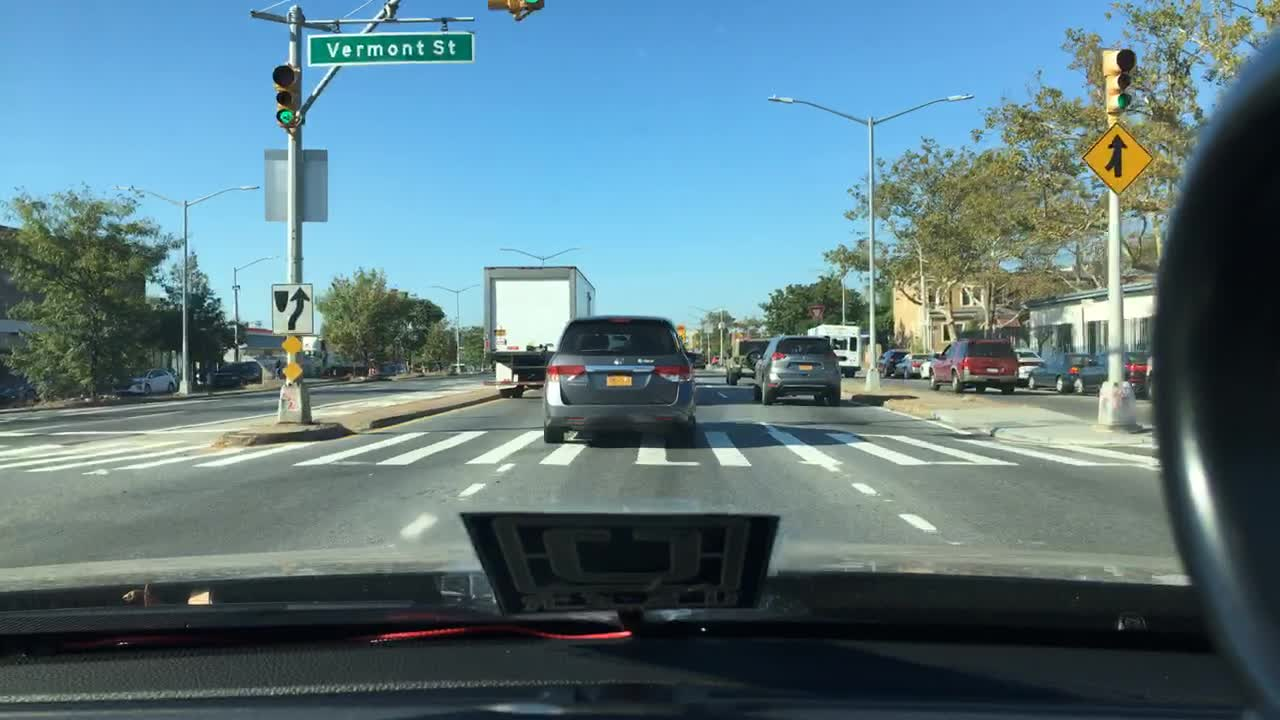car: (541, 317, 696, 446), (754, 334, 841, 406), (931, 339, 1015, 394), (1070, 348, 1153, 397), (1025, 353, 1093, 392), (723, 338, 772, 383), (121, 367, 174, 394), (216, 360, 261, 388), (1013, 346, 1044, 383), (878, 346, 911, 376), (892, 353, 931, 376), (918, 353, 941, 380), (375, 360, 392, 380), (684, 352, 705, 367), (331, 367, 354, 380), (355, 371, 375, 383), (445, 362, 459, 378), (709, 353, 723, 367), (411, 366, 425, 380), (392, 360, 404, 374), (467, 366, 483, 376), (459, 362, 469, 376)
person: (203, 366, 216, 399), (170, 371, 181, 394), (195, 367, 203, 397), (272, 359, 280, 380), (314, 364, 321, 381), (310, 364, 315, 380)
traffic light: (1100, 47, 1133, 117), (272, 65, 298, 130), (485, 2, 544, 14), (674, 324, 686, 338)
traffic sign: (1083, 124, 1151, 193), (308, 33, 473, 61), (265, 149, 328, 222), (270, 283, 314, 334), (282, 338, 300, 357), (282, 364, 301, 381), (808, 306, 824, 317)
truck: (481, 264, 597, 395), (807, 324, 861, 378)
